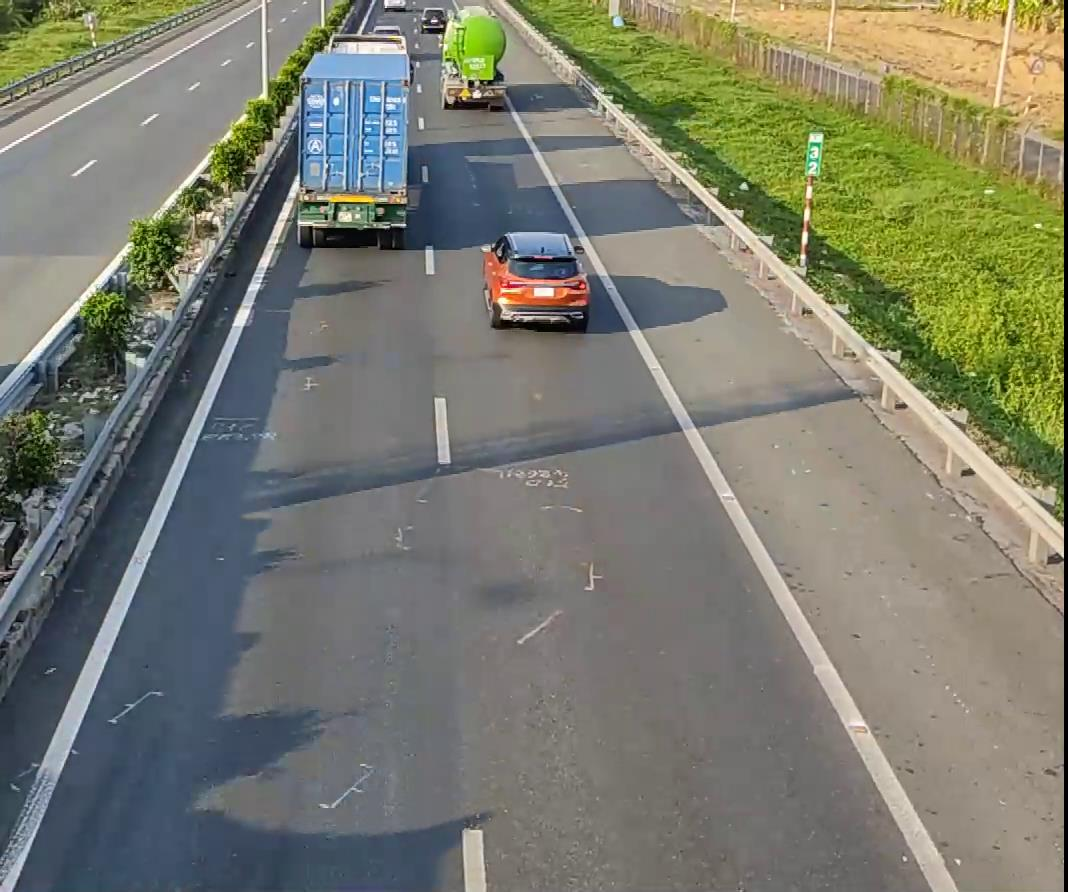car: (481, 233, 590, 328)
container: (292, 24, 413, 247), (438, 1, 507, 107)
